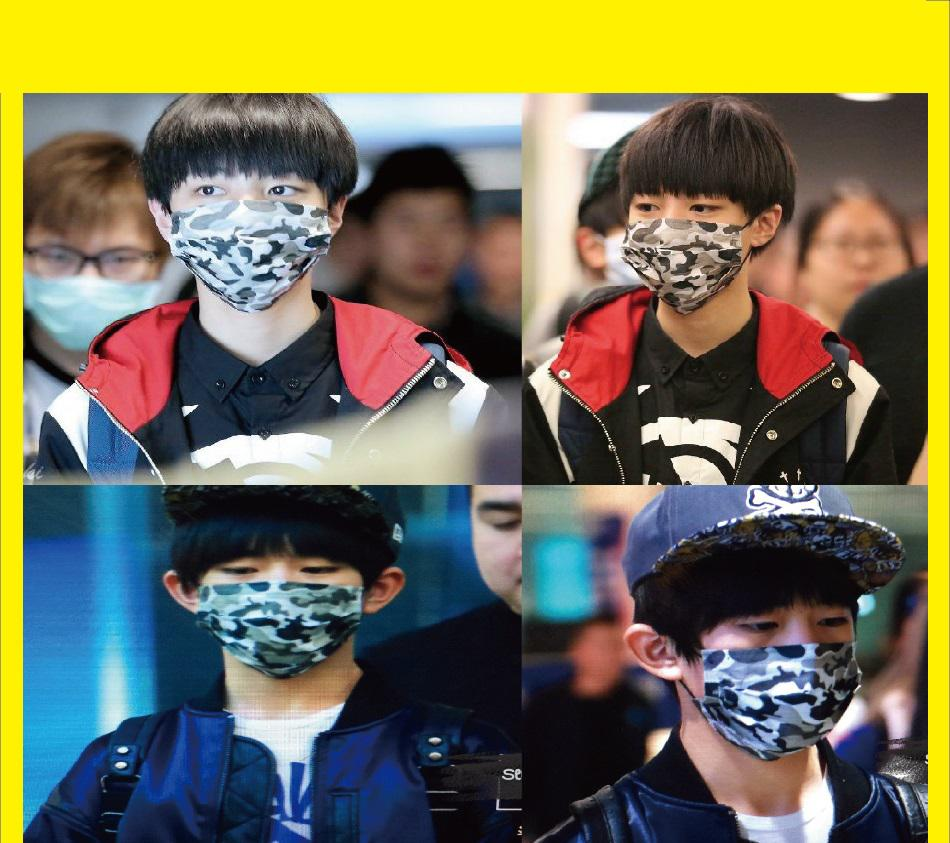NONE: (466, 488, 588, 616), (800, 213, 904, 317), (382, 201, 470, 289)
OK: (187, 529, 366, 675), (693, 579, 858, 737), (174, 164, 328, 301), (622, 175, 748, 301), (30, 213, 154, 337)
